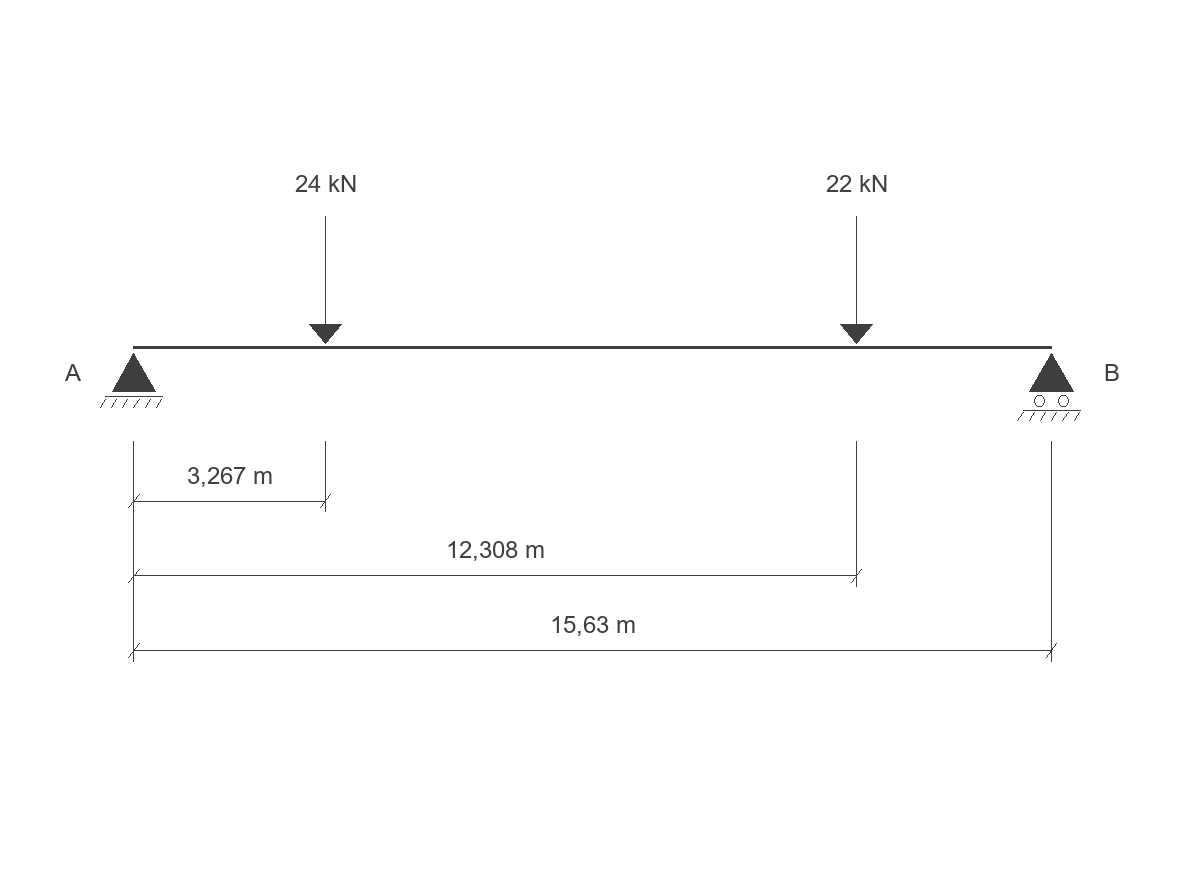pin_support: (100, 353, 163, 408)
point_load: (309, 216, 342, 344), (840, 216, 873, 344)
roller_support: (1017, 353, 1081, 421)
